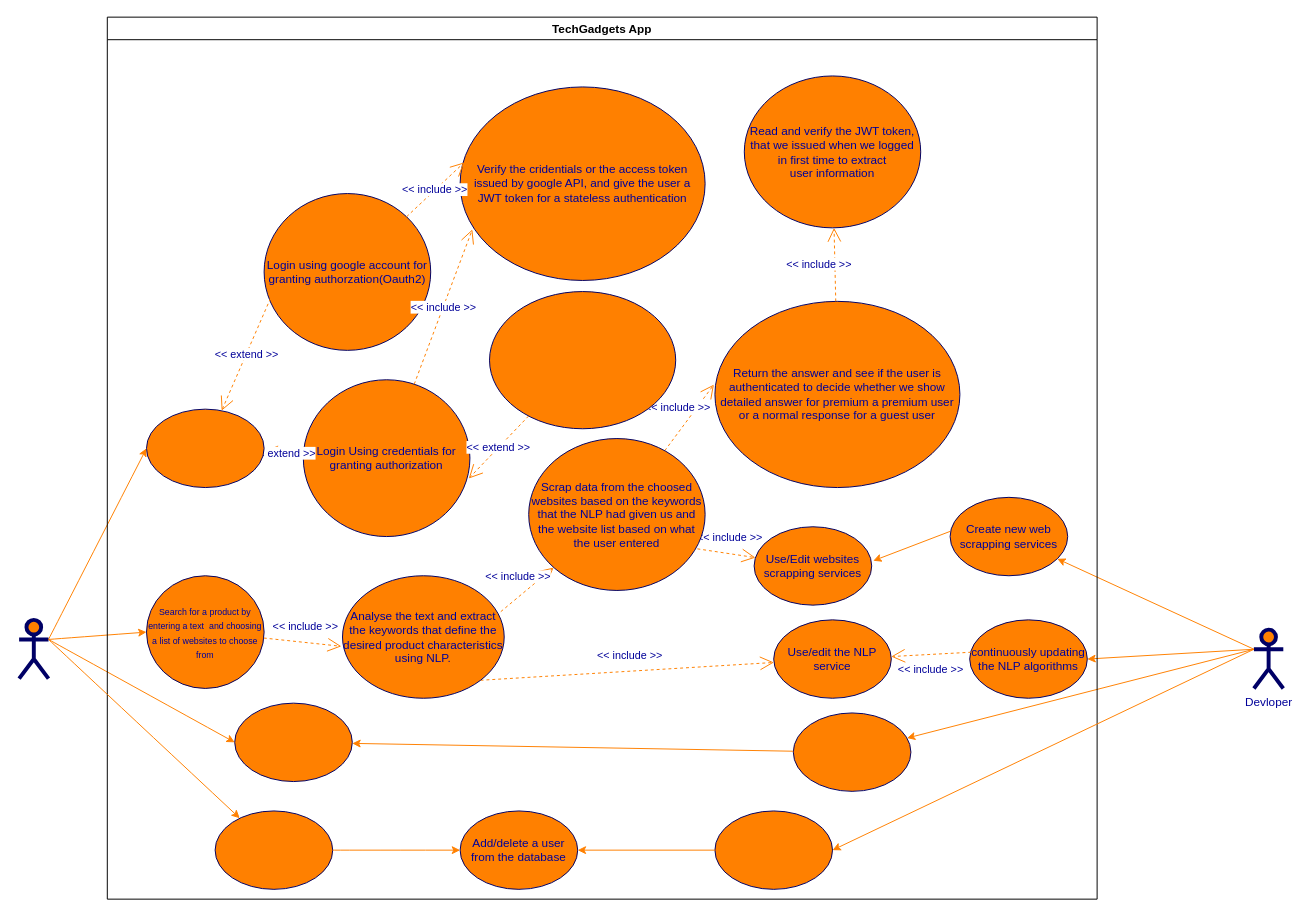
This 1308x916 diagram has some shape labels left out. Here are the shapes that lost their labels. From the top down, the centre of each, then its label:
(x=582, y=360): Display an error message
(x=205, y=448): Login
(x=33, y=648): User
(x=293, y=742): Use new futuristics features
(x=851, y=751): develop new features gradually
(x=273, y=849): Register
(x=773, y=849): Delete/Block a user
